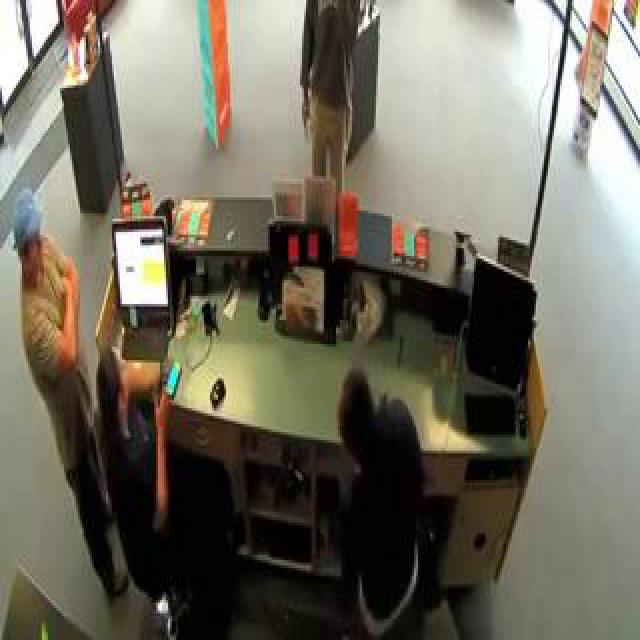robbery: (6, 156, 198, 635)
